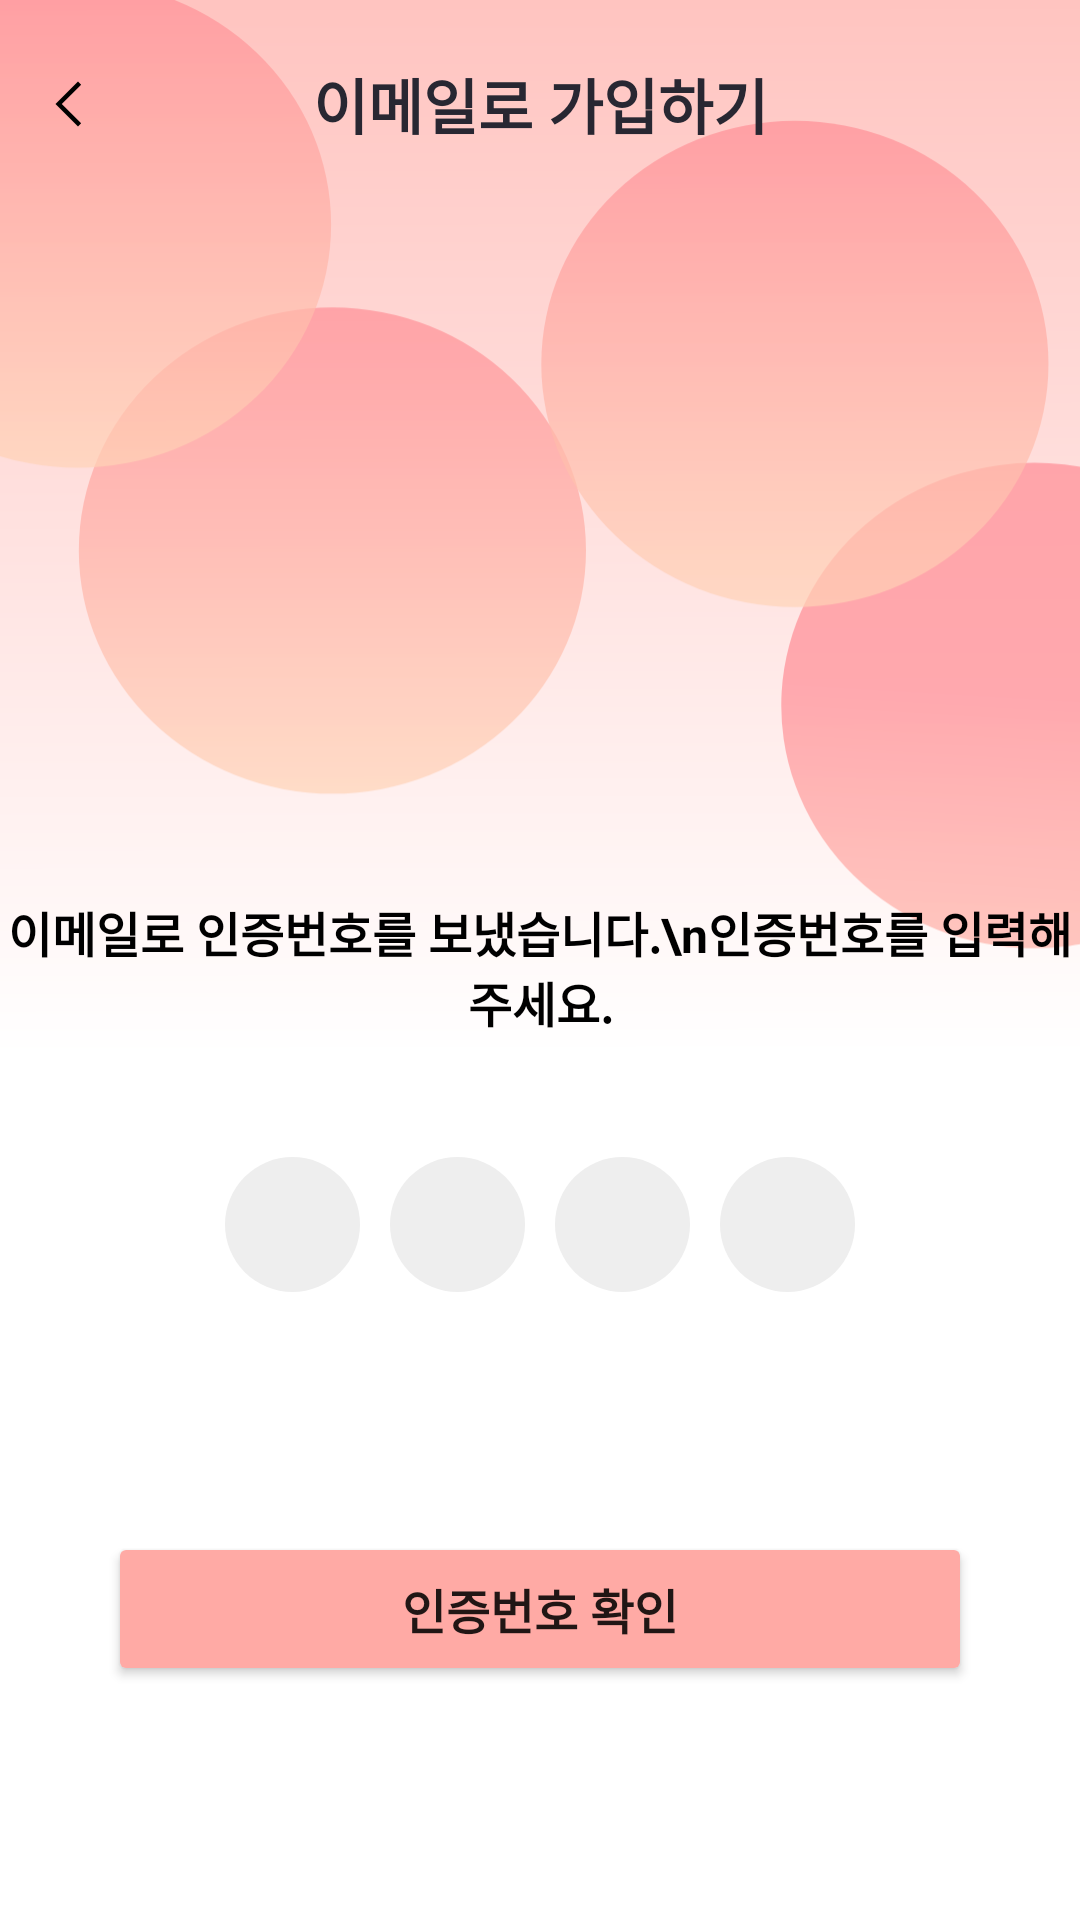

Named icons in this screenshot (1080×1920) and their centers, point (x, y):
back: point (68, 104)
